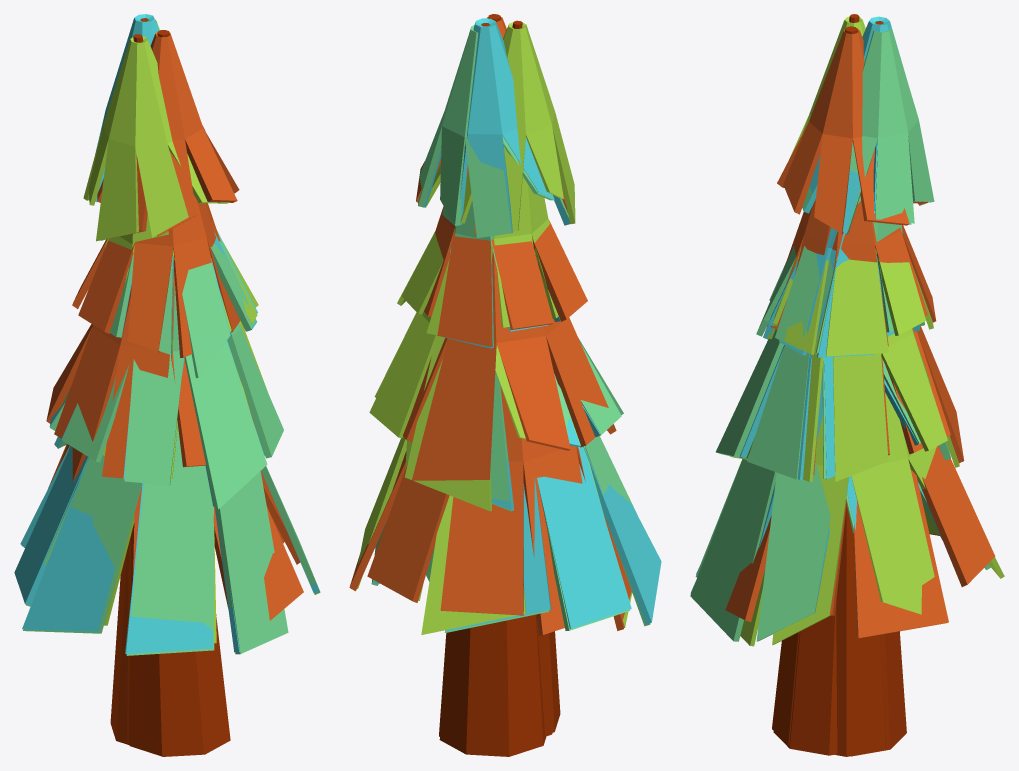
File: trees_coinshapes.fbx
3 views of the same model, side by side, from view 1: azimuth 30°, elevation 25°; view 2: azimuth 150°, elevation 25°; view 3: azimuth 270°, elevation 25° (orthographic). The views are drawn at different scales.
Parts seen in each view (by area): view 1: cointree02, cointree01, cointree04, cointree03; view 2: cointree01, cointree04, cointree03, cointree02; view 3: cointree02, cointree03, cointree01, cointree04.
Part boxes in pixels (bbox=[...]): cointree02: bbox=[21, 19, 320, 756]; cointree01: bbox=[46, 30, 303, 744]; cointree04: bbox=[14, 14, 319, 755]; cointree03: bbox=[83, 34, 267, 643]; cointree01: bbox=[349, 14, 631, 756]; cointree04: bbox=[373, 18, 661, 734]; cointree03: bbox=[357, 20, 632, 736]; cointree02: bbox=[371, 25, 650, 736]; cointree02: bbox=[690, 27, 990, 755]; cointree03: bbox=[730, 14, 1004, 756]; cointree01: bbox=[725, 26, 995, 756]; cointree04: bbox=[690, 16, 944, 745].
Size of what is drawn, in the model's own units: 235 by 581 by 233.
